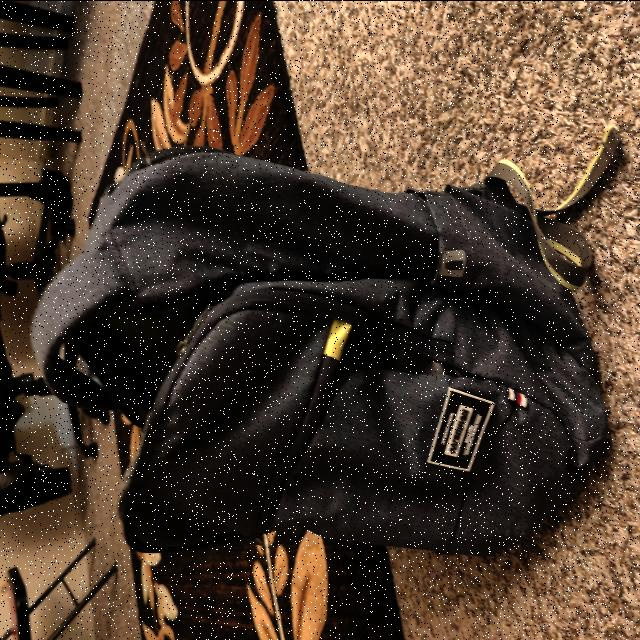bag: (36, 235, 604, 513)
